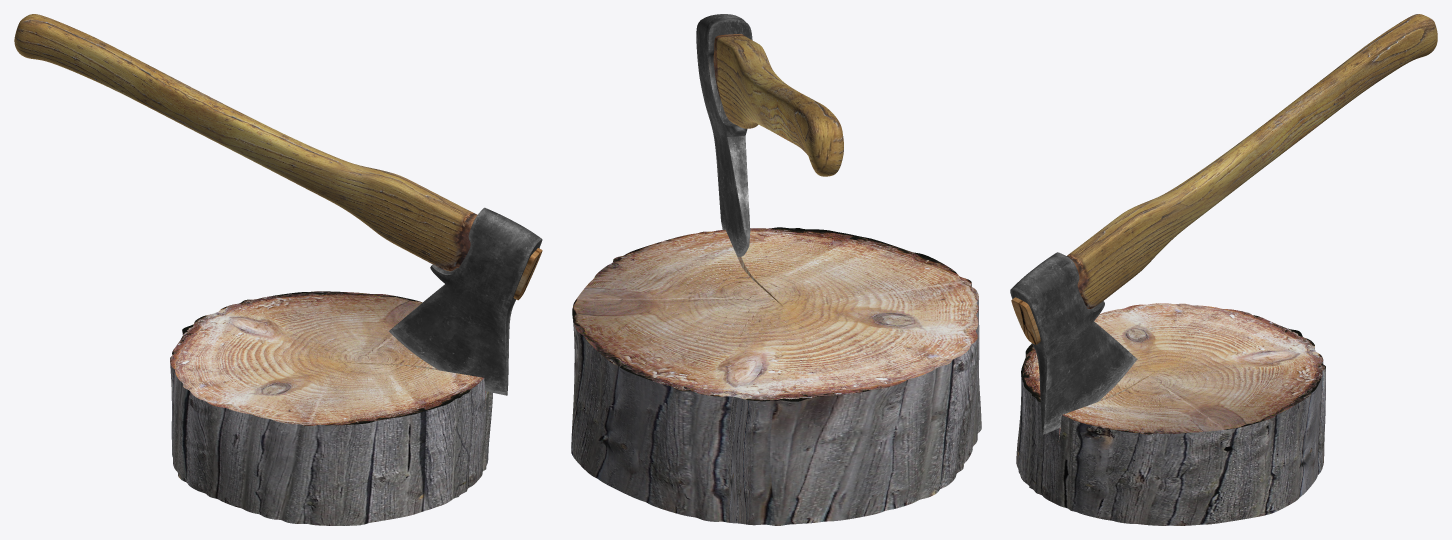
File: AxeUSSR.fbx
The picture shows the model from 3 angles, left to right: view 1: azimuth 30°, elevation 25°; view 2: azimuth 150°, elevation 25°; view 3: azimuth 270°, elevation 25°; orthographic projection. The views are drawn at different scales.
Visible parts, largest first — view 1: Axe; view 2: Axe; view 3: Axe.
Part boxes in pixels (<box>): Axe: <box>14,14,542,525</box>; Axe: <box>571,14,981,525</box>; Axe: <box>1010,14,1437,525</box>.
Bounding box in the file's own units: 398 × 454 × 478.
Materials: 3 (3 with a texture image).
